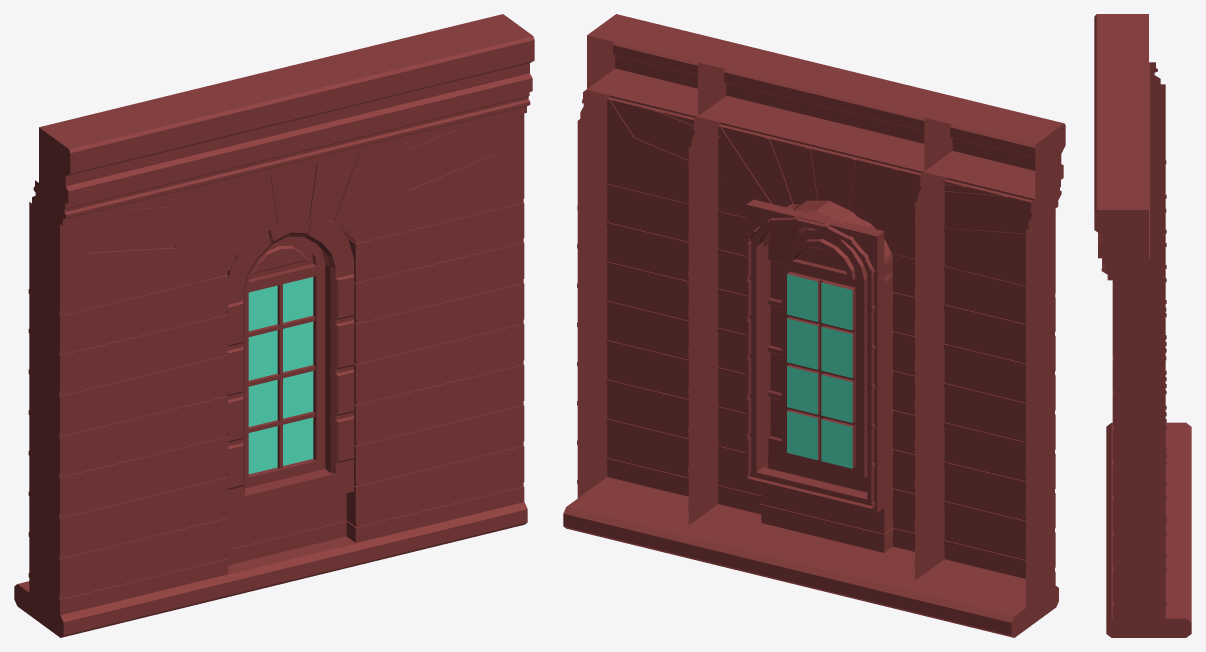
The model's file is O_V_FacadeType1_Down.fbx.
3 renders of one model, left to right at view 1: azimuth 30°, elevation 25°; view 2: azimuth 150°, elevation 25°; view 3: azimuth 270°, elevation 25°, orthographic. The views are drawn at different scales.
Visible parts, largest first — view 1: O_V_FacadeType1_Down; view 2: O_V_FacadeType1_Down; view 3: O_V_FacadeType1_Down.
Part boxes in pixels (box(x1,y1,x2,y2)): O_V_FacadeType1_Down: box(14, 14, 534, 637); O_V_FacadeType1_Down: box(563, 14, 1065, 637); O_V_FacadeType1_Down: box(1094, 14, 1191, 637).
Bounding box in the file's own units: 6.38 × 6.5 × 1.34.
